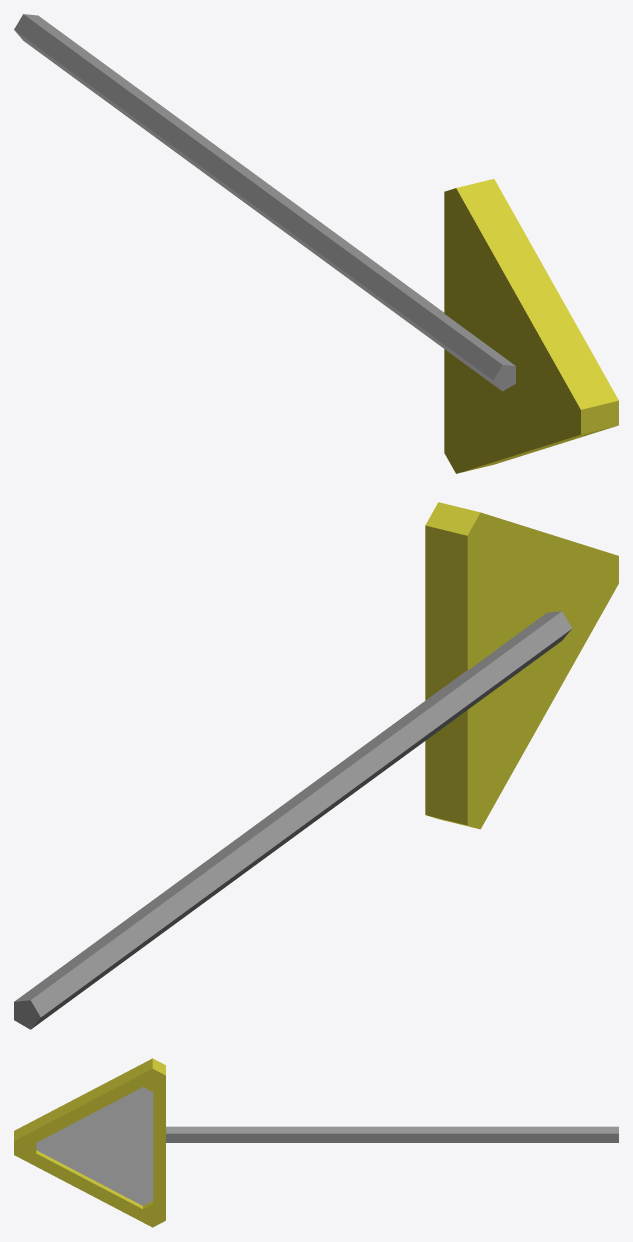
Rendered from yield-sign.obj.
3 views of the same model, one above another, from view 1: azimuth 30°, elevation 25°; view 2: azimuth 150°, elevation 25°; view 3: azimuth 270°, elevation 25° (orthographic). The views are drawn at different scales.
Visible parts, largest first — view 1: yield-sign; view 2: yield-sign; view 3: yield-sign.
Part boxes in pixels (x1,y1,x2,y2): yield-sign: (14, 14, 618, 473); yield-sign: (14, 502, 618, 1029); yield-sign: (14, 1058, 618, 1227).
Size of the model in its own units: 5.43 by 24.35 by 84.
